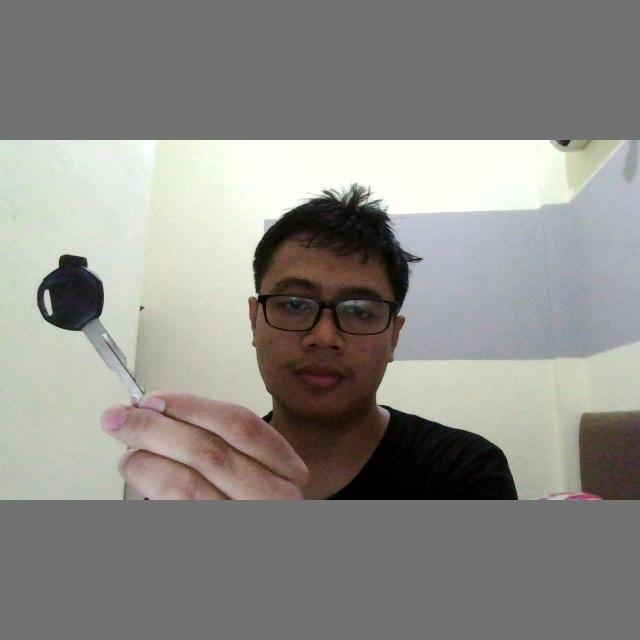Keys: (34, 250, 150, 410)
